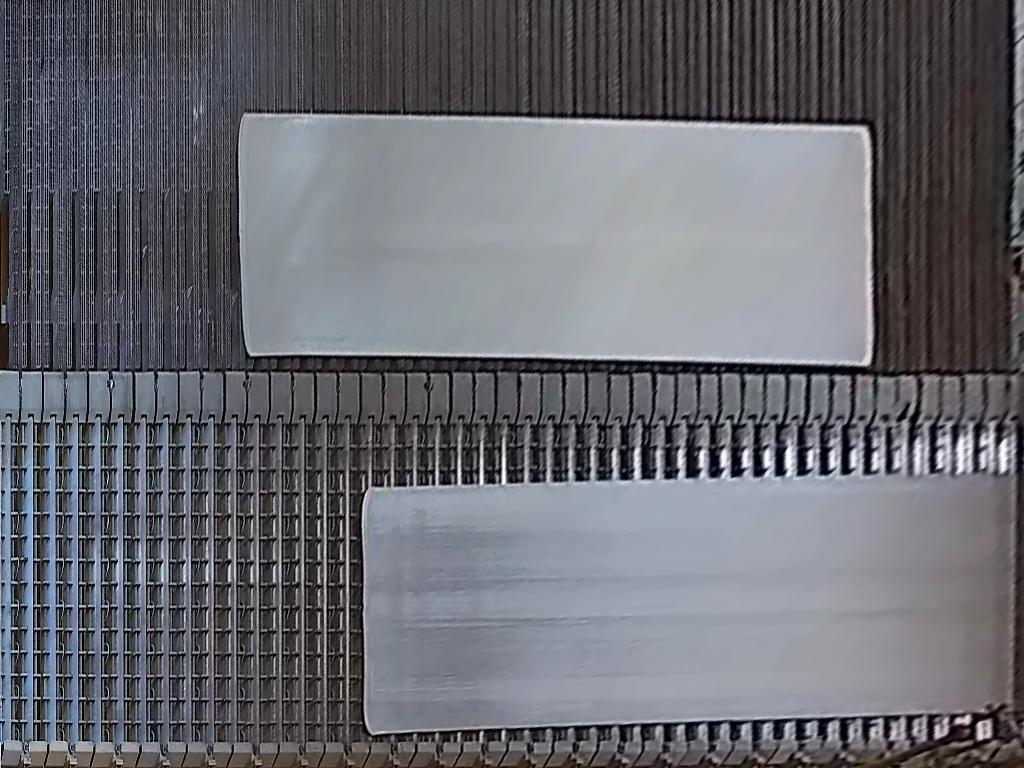steel: (359, 472, 1024, 739), (236, 114, 872, 365)
